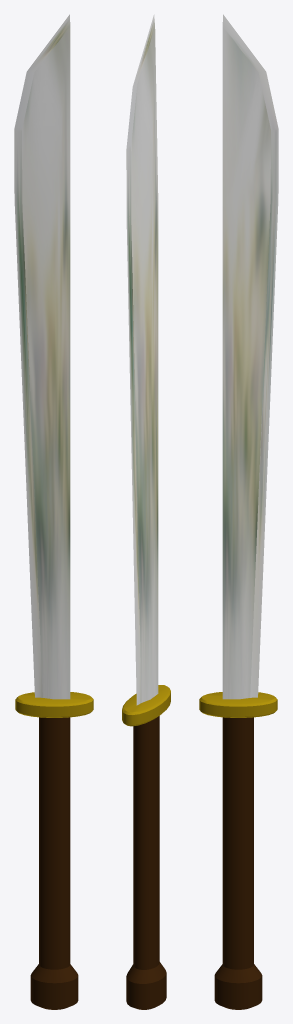
Rendered from TonySword_01.fbx.
The picture shows the model from 3 angles, left to right: view 1: azimuth 90°, elevation 25°; view 2: azimuth 150°, elevation 25°; view 3: azimuth 270°, elevation 25°; orthographic projection.
Parts seen in each view (by area): view 1: TonySword_01; view 2: TonySword_01; view 3: TonySword_01.
Part boxes in pixels (x1=…): TonySword_01: x1=14, y1=14, x2=93, y2=1009; TonySword_01: x1=122, y1=14, x2=170, y2=1009; TonySword_01: x1=199, y1=14, x2=278, y2=1009.
Size of the model in its own units: 4.83 by 140 by 10.15.
